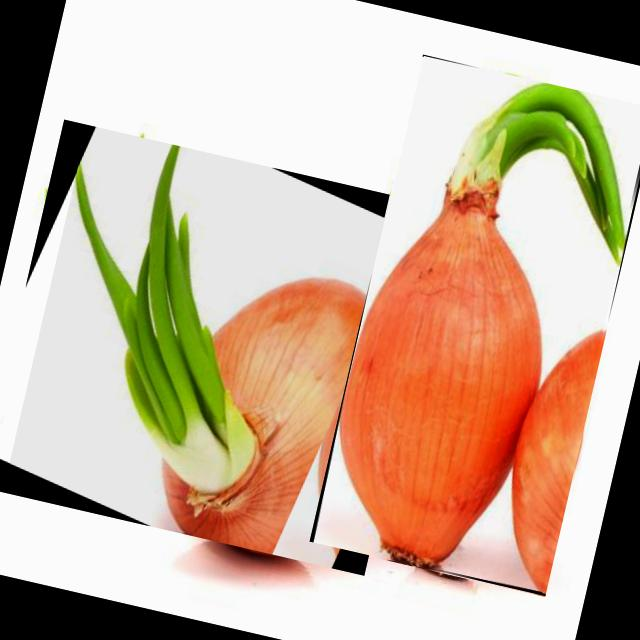sprouting: (342, 84, 624, 566), (77, 145, 399, 558)
